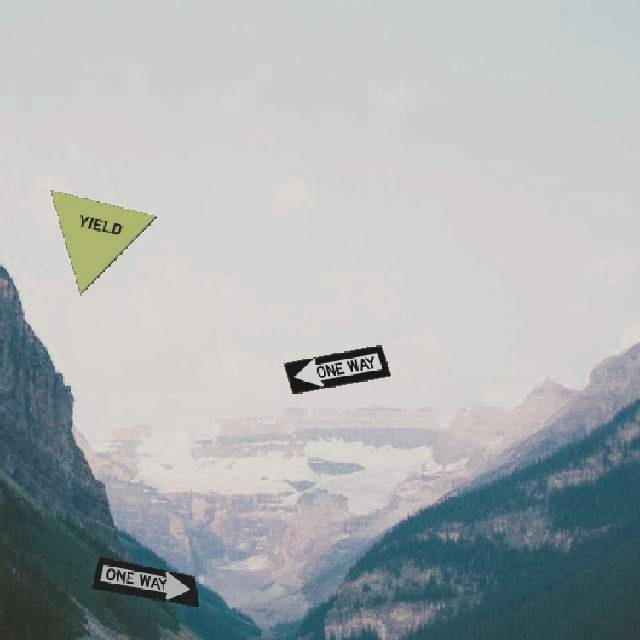ONE_WAY_ left: (282, 343, 390, 393)
ONE_WAY_ right: (90, 555, 198, 606)
YIELD: (48, 188, 156, 294)
